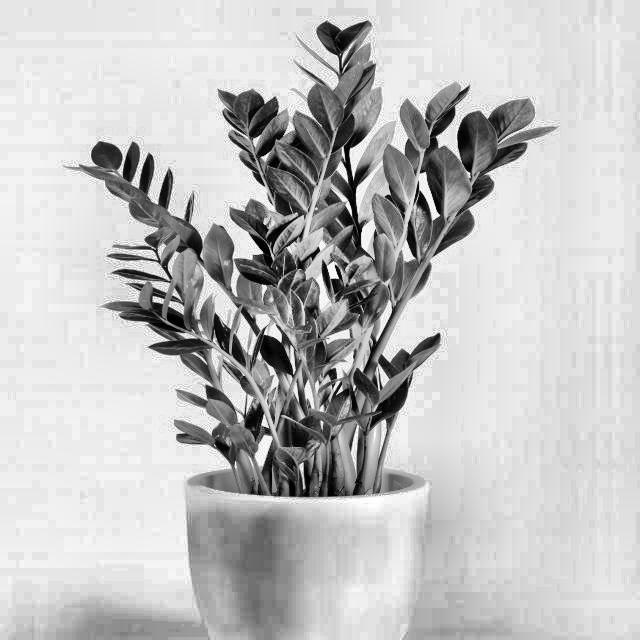plants: (77, 31, 543, 639)
